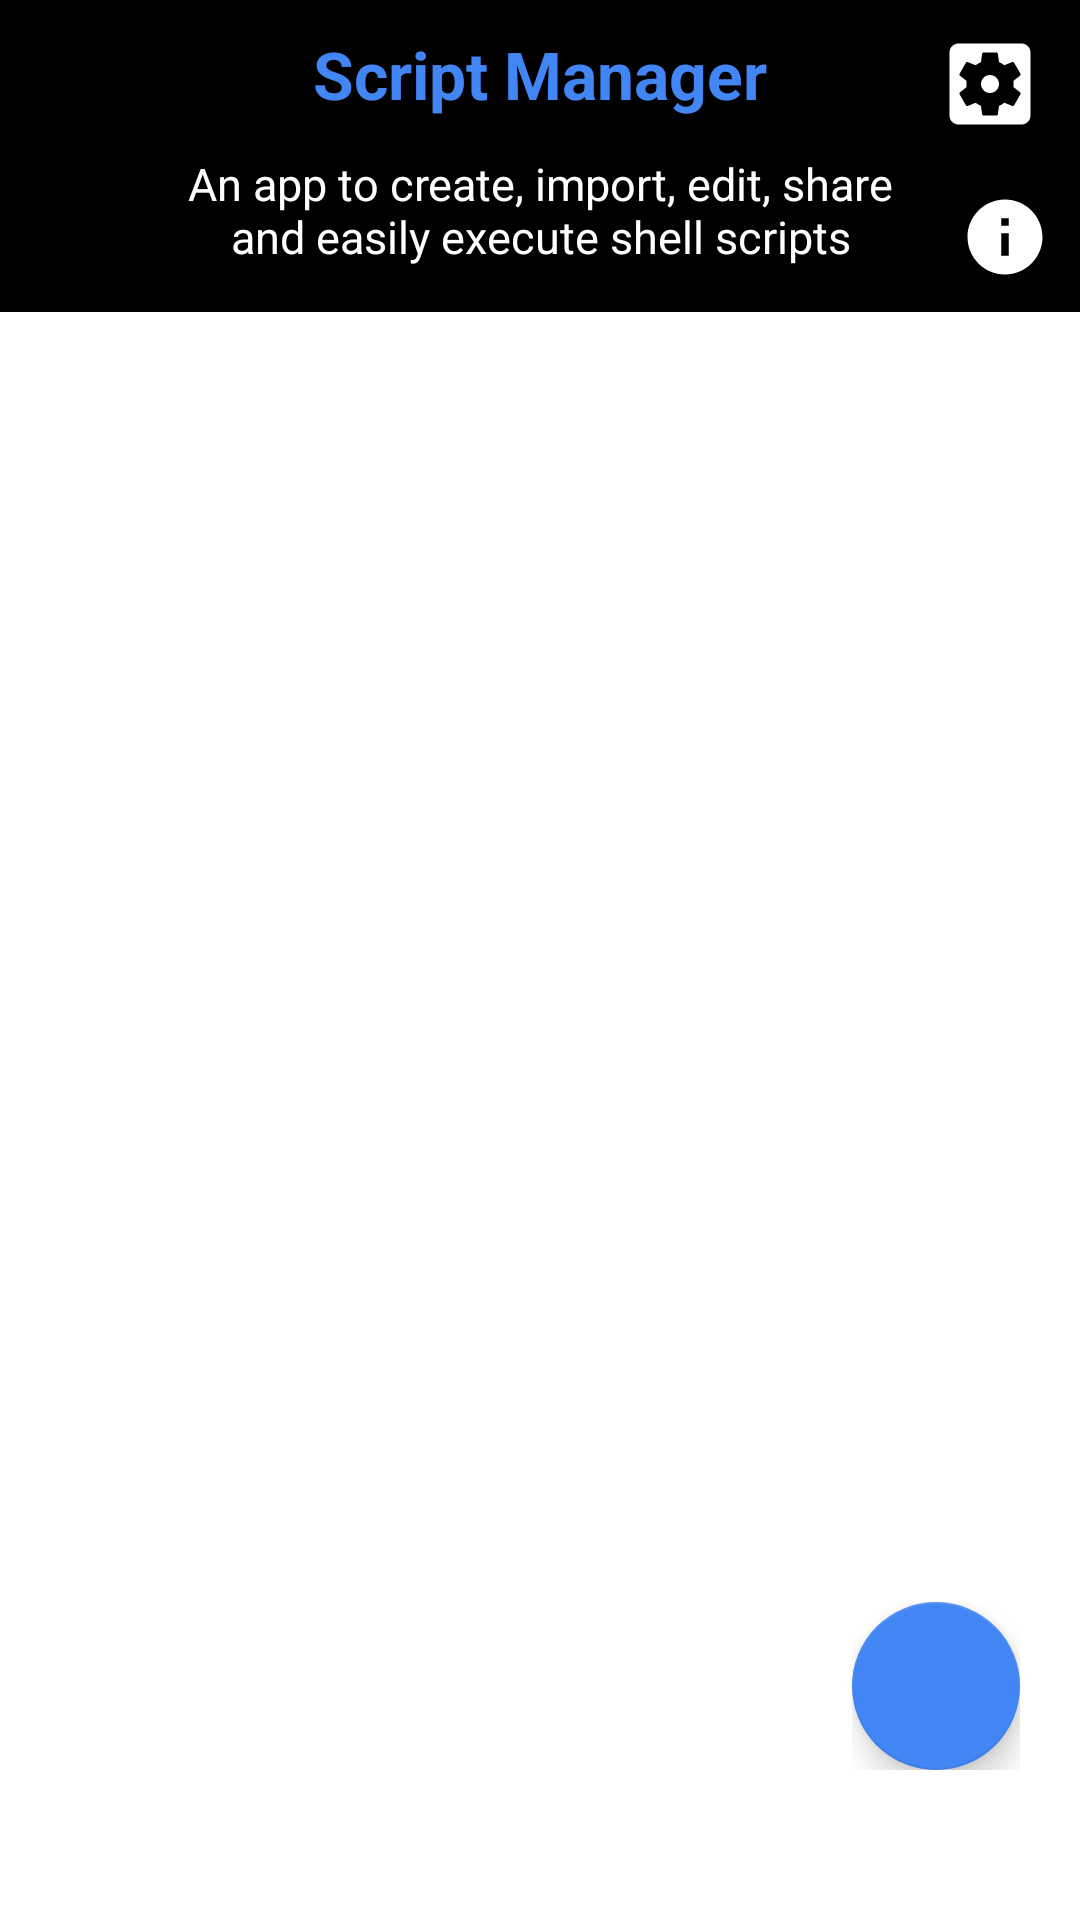

Named icons in this screenshot (1080*1920) and their centers, (x,y):
info: (1005,237)
settings: (990,84)
